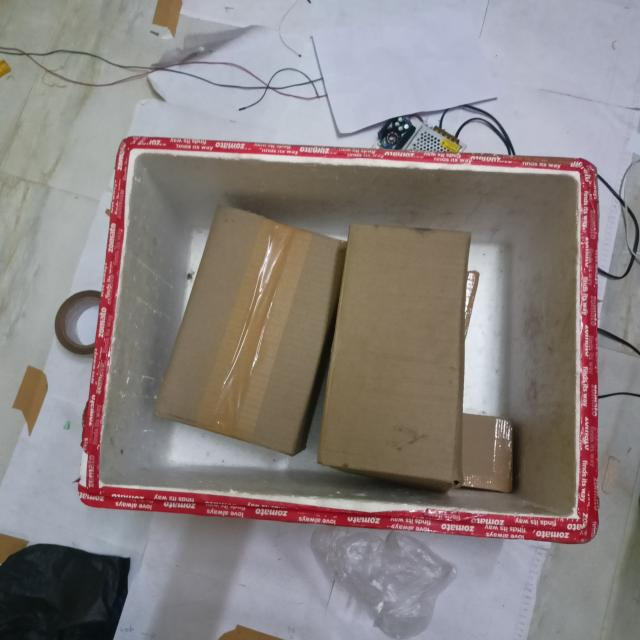box: (163, 212, 342, 458), (332, 230, 470, 485)
